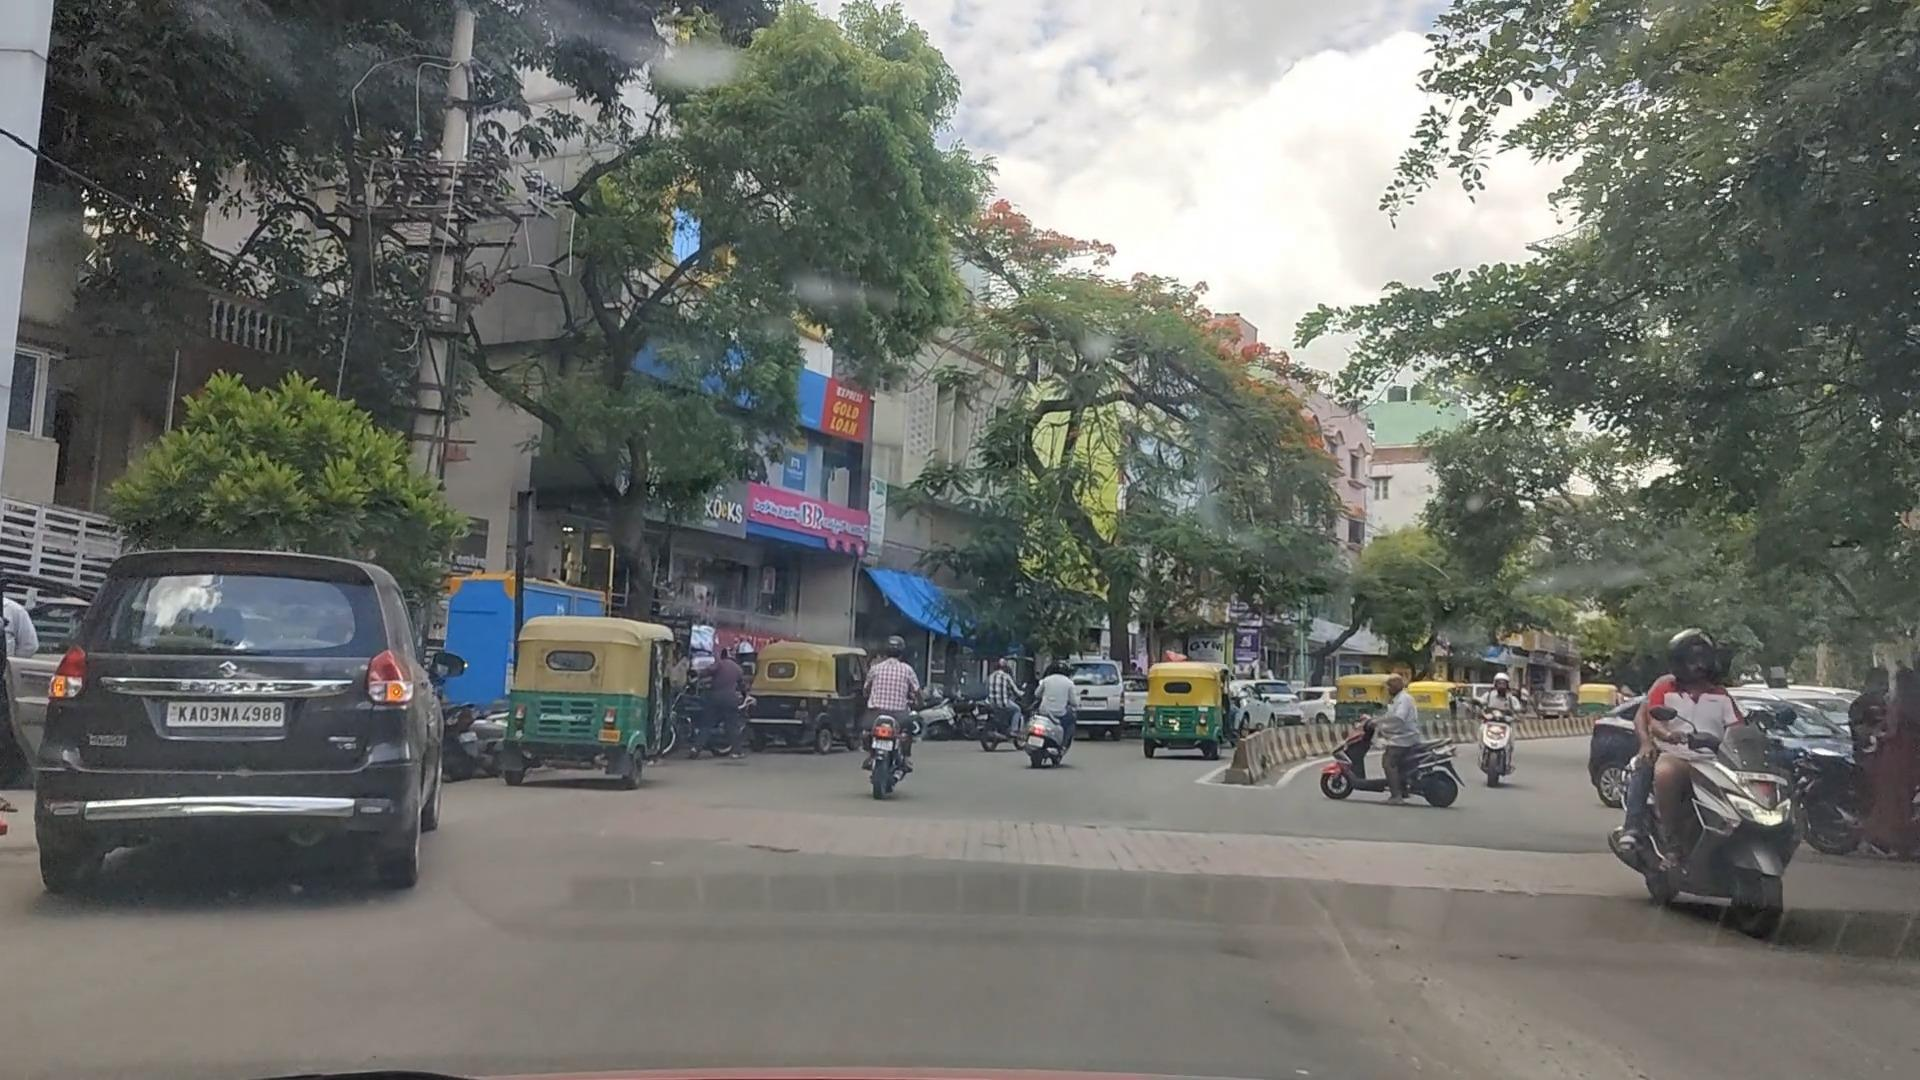LMV: (75, 563, 447, 909), (524, 613, 679, 806), (845, 653, 922, 794)
SpeedBump: (473, 764, 1185, 940)
